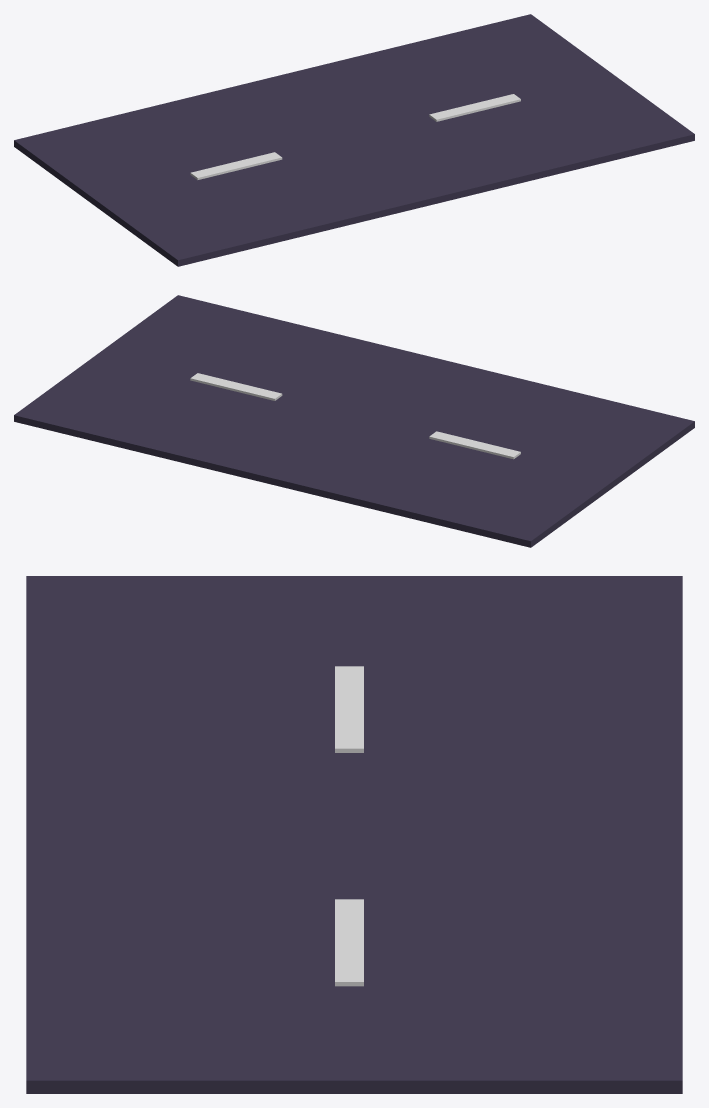
File: road.glb
3 renders of one model, top to bottom at view 1: azimuth 30°, elevation 25°; view 2: azimuth 150°, elevation 25°; view 3: azimuth 270°, elevation 25°, orthographic. The views are drawn at different scales.
Visible parts, largest first — view 1: carretera; view 2: carretera; view 3: carretera.
Boxes of the visible parts, x1,y1,x2,y2 form: carretera: (14, 14, 694, 266); carretera: (14, 295, 694, 547); carretera: (26, 576, 682, 1093).
Size of the model in its own units: 13.72 by 0.2219 by 7.54.
